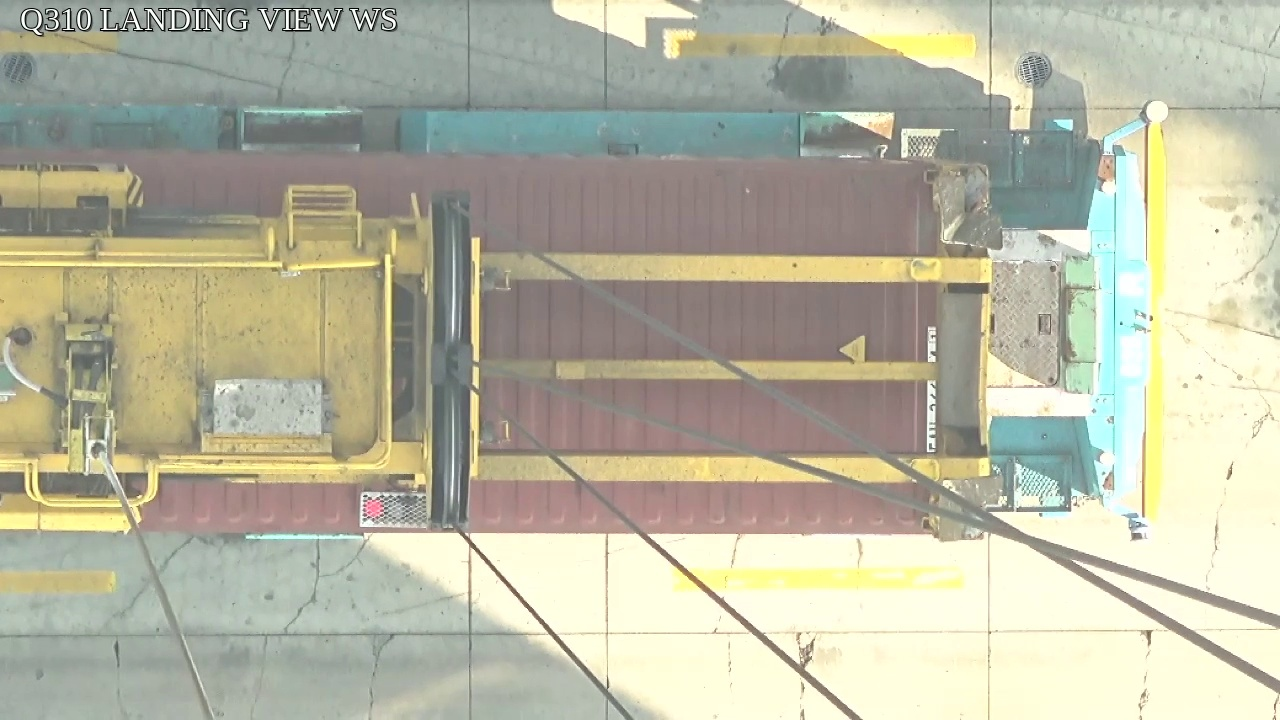right: (422, 189, 483, 530)
